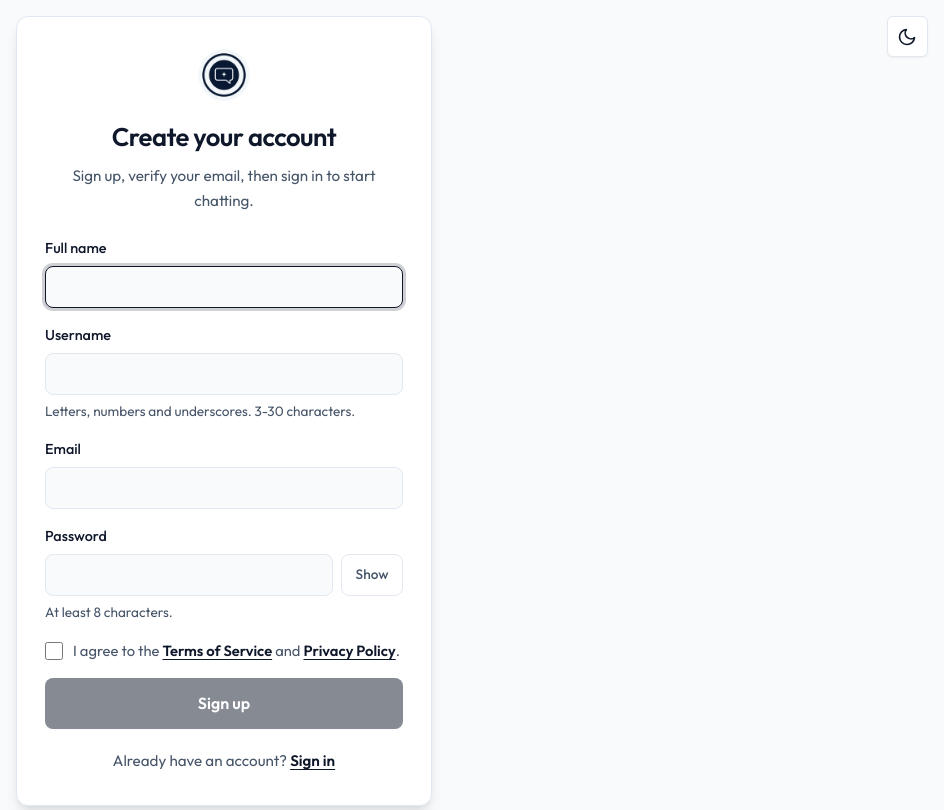
Test: sign up › shows the server error when the email is already registered
Step 1. Type "A B" into the field labelled "Full name" → (224, 287), box [45, 266, 403, 308]
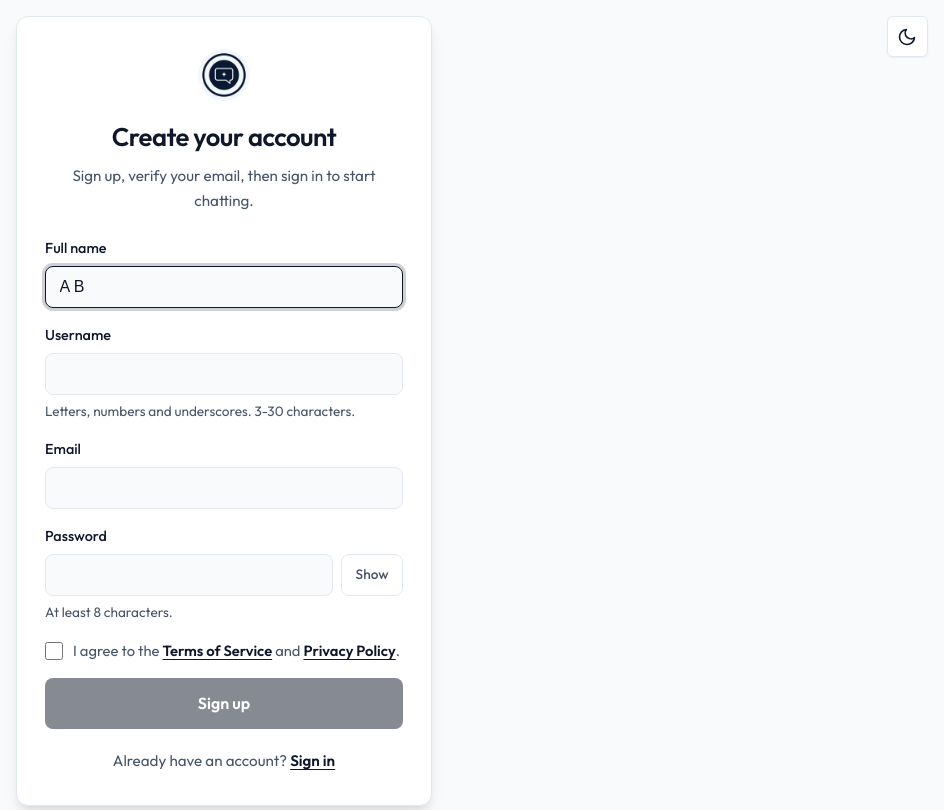
Step 2. Type "valid_name" into the field labelled "Username" → (224, 374), box [45, 353, 403, 395]
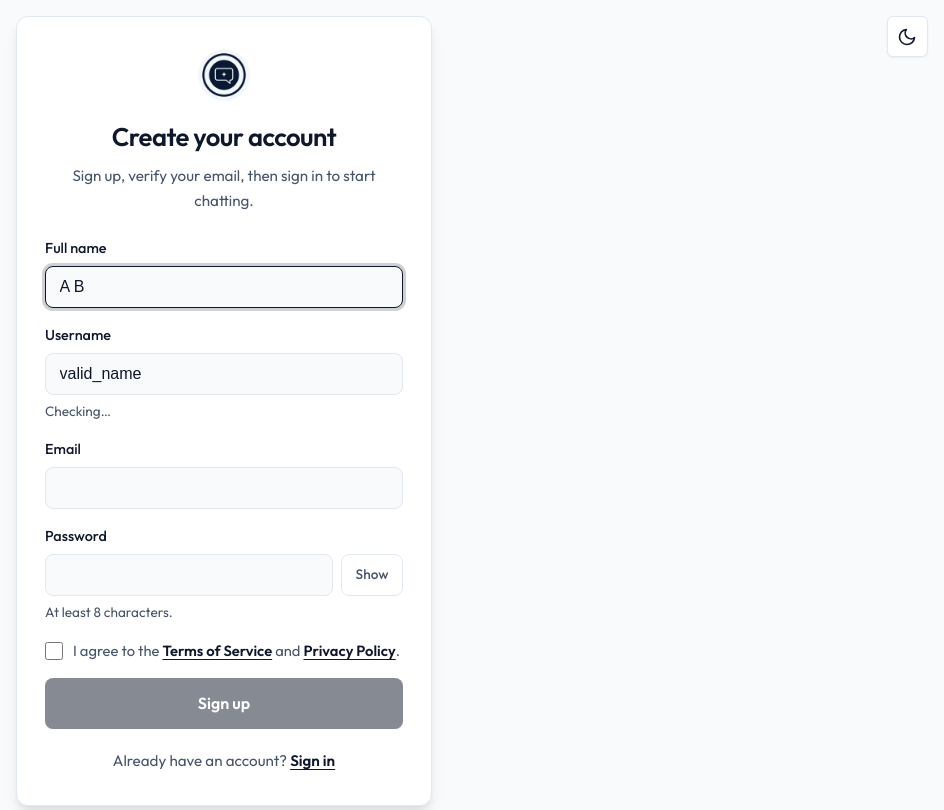
Step 3. Type "a@example.com" into the field labelled "Email" → (224, 488), box [45, 467, 403, 509]
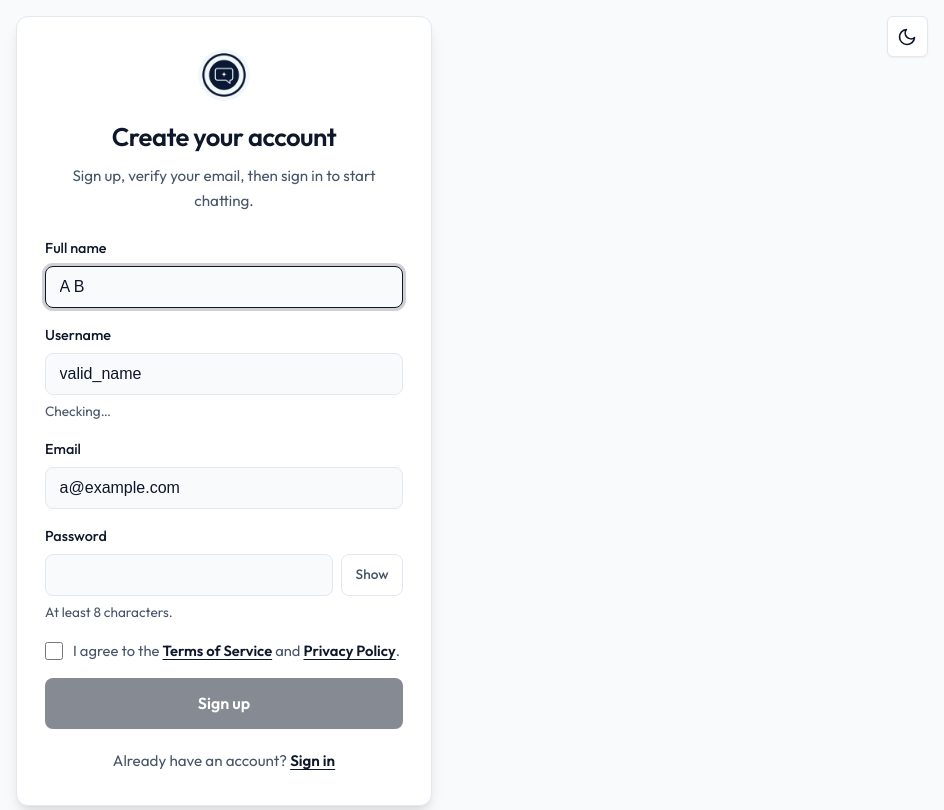
Step 4. Type "secret-pass-1" into the password field labelled "Password" → (189, 575), box [45, 554, 333, 596]
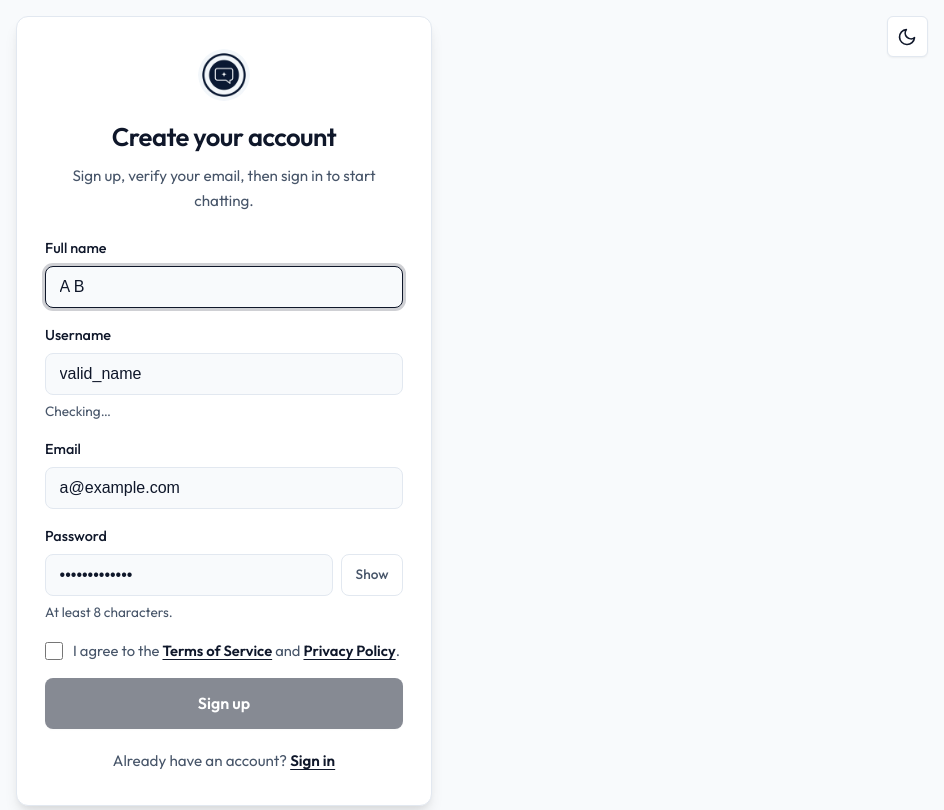
Step 5. Click the checkbox labelled "I agree to the Terms of Service and Privacy Policy ." → (54, 651), box [45, 642, 63, 660]
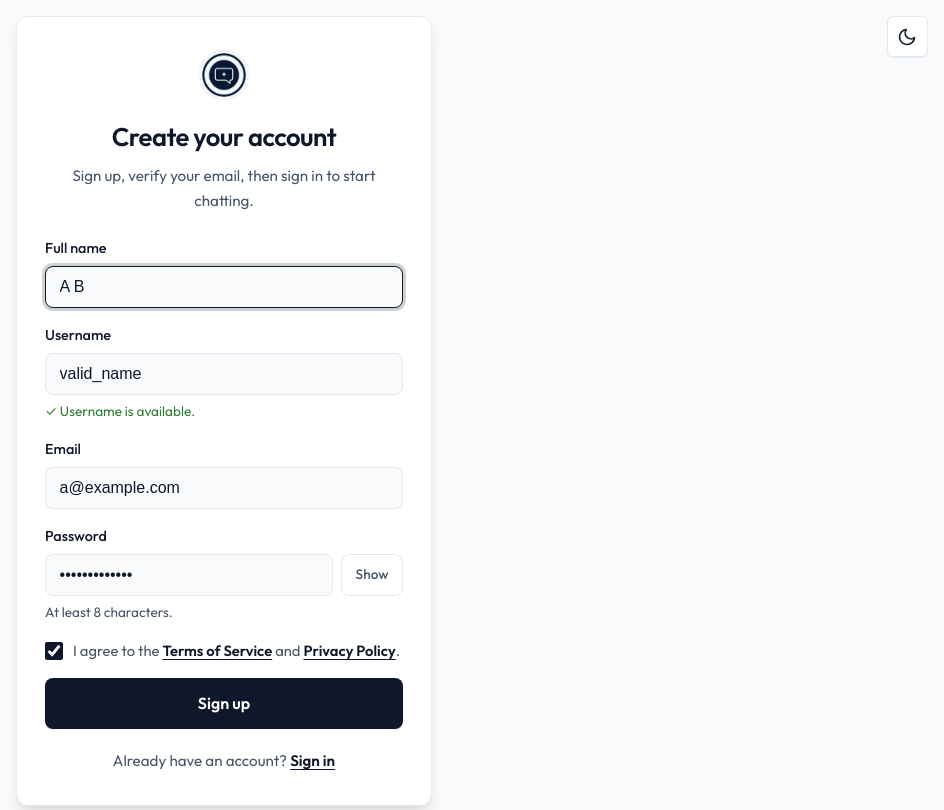
Expected: the text "✓ Username is available." is shown, [45, 402, 195, 420]
Step 6. Click the button "Sign up" → (224, 703), box [45, 678, 403, 729]
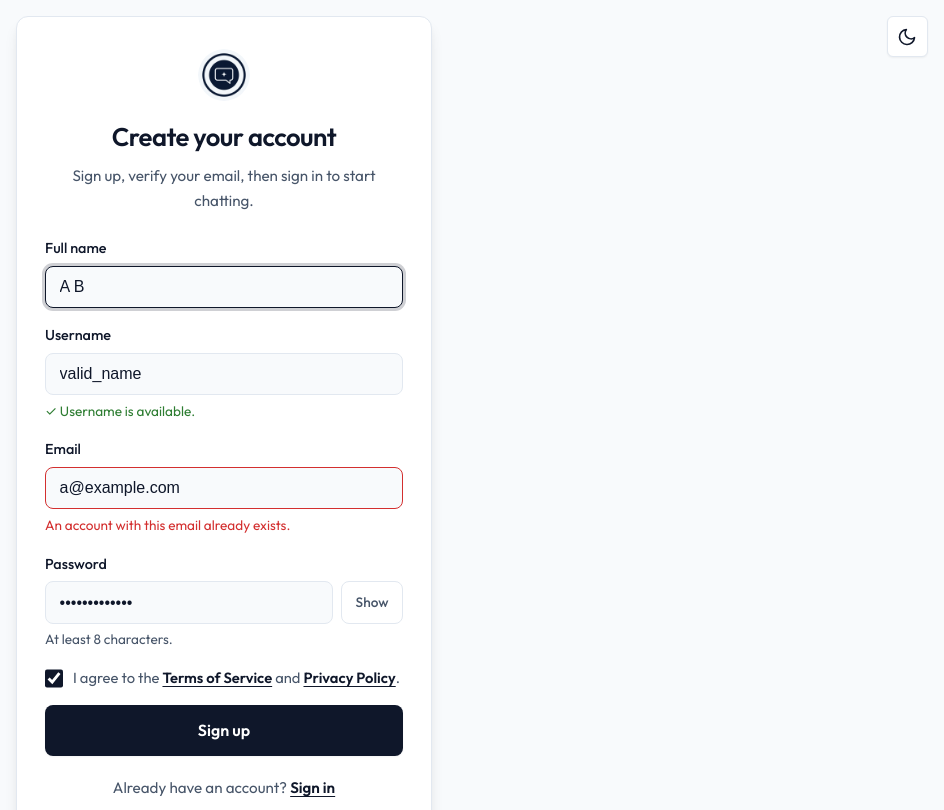
Expected: the text "An account with this email already exists." is shown, [45, 516, 290, 534]
